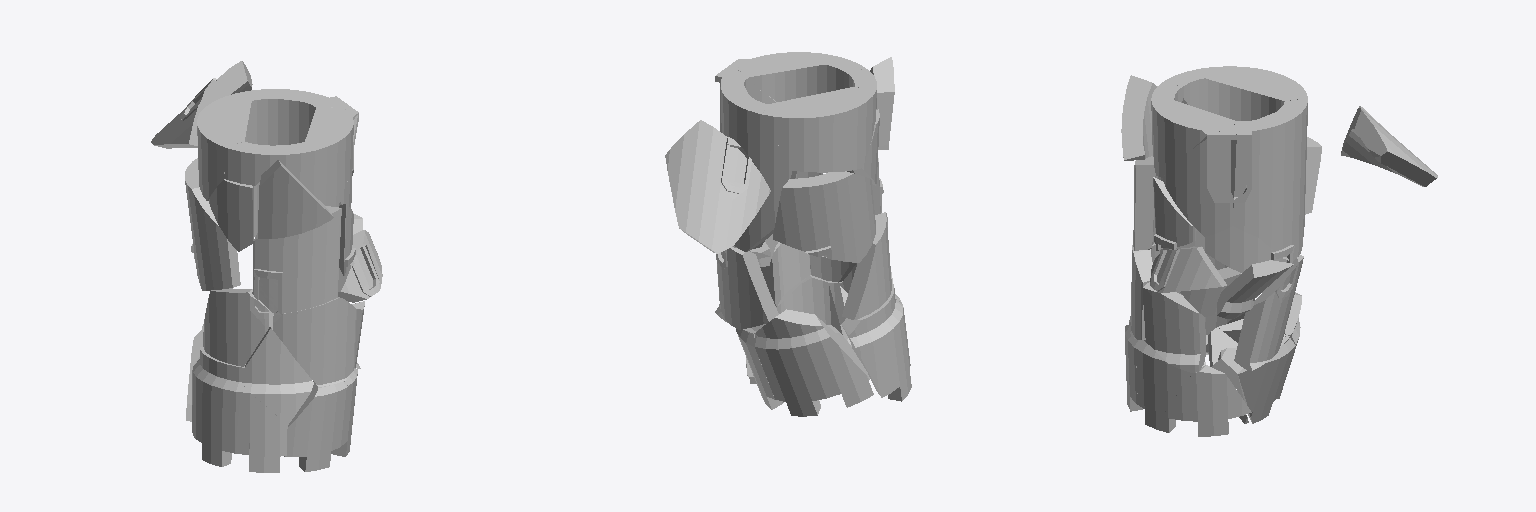
Rendered from destruction_tower_000033.obj.
3 views of the same model, side by side, from view 1: azimuth 30°, elevation 25°; view 2: azimuth 150°, elevation 25°; view 3: azimuth 270°, elevation 25° (orthographic).
Visible parts, largest first — view 1: tower.001_cell.024_Mesh.024, tower.001_cell.021_Mesh.021, tower.001_cell.028_Mesh.028, tower.001_cell.006_Mesh.006, tower.001_cell.009_Mesh.009, tower.001_cell.011_Mesh.011, tower.001_cell.013_Mesh.013, tower.001_cell.002_Mesh.002, tower.001_cell.003_Mesh.003, tower.001_cell.015_Mesh.015, tower.001_cell.017_Mesh.017, tower.001_cell.005_Mesh.005 (+7 smaller); view 2: tower.001_cell.025_Mesh.025, tower.001_cell.007_Mesh.007, tower.001_cell.003_Mesh.003, tower.001_cell.015_Mesh.015, tower.001_cell.017_Mesh.017, tower.001_cell.028_Mesh.028, tower.001_cell.005_Mesh.005, tower.001_cell.012_Mesh.012, tower.001_cell.009_Mesh.009, tower.001_cell_Mesh, tower.001_cell.023_Mesh.023, tower.001_cell.002_Mesh.002 (+6 smaller); view 3: tower.001_cell.017_Mesh.017, tower.001_cell.020_Mesh.020, tower.001_cell.015_Mesh.015, tower.001_cell_Mesh, tower.001_cell.028_Mesh.028, tower.001_cell.030_Mesh.030, tower.001_cell.012_Mesh.012, tower.001_cell.025_Mesh.025, tower.001_cell.023_Mesh.023, tower.001_cell.010_Mesh.010, tower.001_cell.026_Mesh.026, tower.001_cell.002_Mesh.002 (+12 smaller).
Boxes of the visible parts, x1,y1,x2,y2 form: tower.001_cell.024_Mesh.024: [252, 206, 341, 314]; tower.001_cell.021_Mesh.021: [273, 297, 356, 386]; tower.001_cell.028_Mesh.028: [272, 107, 358, 206]; tower.001_cell.006_Mesh.006: [200, 390, 287, 472]; tower.001_cell.009_Mesh.009: [203, 288, 268, 366]; tower.001_cell.011_Mesh.011: [284, 381, 347, 471]; tower.001_cell.013_Mesh.013: [244, 327, 313, 425]; tower.001_cell.002_Mesh.002: [258, 160, 333, 238]; tower.001_cell.003_Mesh.003: [185, 158, 240, 290]; tower.001_cell.015_Mesh.015: [197, 94, 251, 200]; tower.001_cell.017_Mesh.017: [235, 89, 322, 236]; tower.001_cell.005_Mesh.005: [192, 347, 245, 441]; tower.001_cell.025_Mesh.025: [665, 120, 770, 253]; tower.001_cell.007_Mesh.007: [754, 309, 873, 416]; tower.001_cell.003_Mesh.003: [773, 171, 875, 262]; tower.001_cell.015_Mesh.015: [763, 87, 875, 172]; tower.001_cell.017_Mesh.017: [720, 80, 796, 251]; tower.001_cell.028_Mesh.028: [737, 52, 864, 102]; tower.001_cell.005_Mesh.005: [841, 284, 904, 397]; tower.001_cell.012_Mesh.012: [715, 247, 778, 329]; tower.001_cell.009_Mesh.009: [842, 212, 891, 319]; tower.001_cell_Mesh: [760, 242, 810, 306]; tower.001_cell.023_Mesh.023: [776, 275, 848, 342]; tower.001_cell.002_Mesh.002: [870, 57, 894, 149]; tower.001_cell.017_Mesh.017: [1258, 98, 1307, 262]; tower.001_cell.020_Mesh.020: [1163, 129, 1236, 236]; tower.001_cell.015_Mesh.015: [1205, 66, 1307, 120]; tower.001_cell_Mesh: [1142, 282, 1206, 372]; tower.001_cell.028_Mesh.028: [1151, 84, 1237, 177]; tower.001_cell.030_Mesh.030: [1155, 365, 1251, 436]; tower.001_cell.012_Mesh.012: [1234, 255, 1303, 370]; tower.001_cell.025_Mesh.025: [1341, 106, 1437, 186]; tower.001_cell.023_Mesh.023: [1136, 339, 1205, 428]; tower.001_cell.010_Mesh.010: [1150, 246, 1226, 292]; tower.001_cell.026_Mesh.026: [1230, 119, 1257, 236]; tower.001_cell.002_Mesh.002: [1121, 75, 1156, 160].
Bounding box in the file's own units: 59.28 × 95.8 × 86.42.